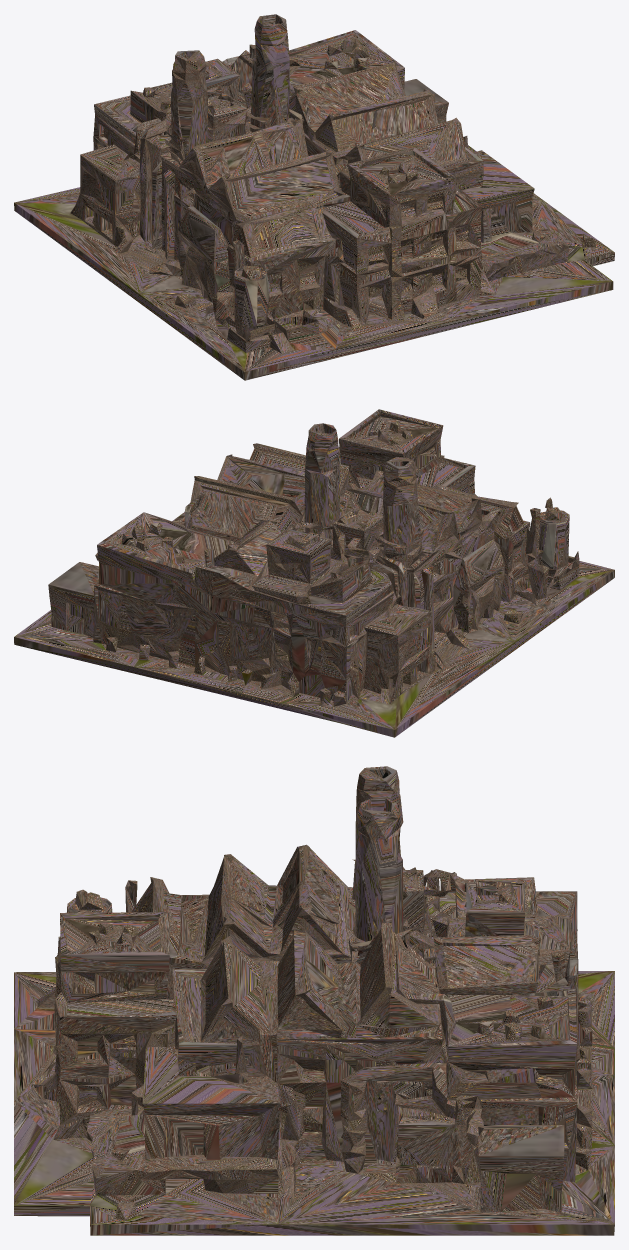
File: factory.glb
3 views of the same model, one above another, from view 1: azimuth 30°, elevation 25°; view 2: azimuth 150°, elevation 25°; view 3: azimuth 270°, elevation 25° (orthographic). The views are drawn at different scales.
Visible parts, largest first — view 1: normalize; view 2: normalize; view 3: normalize.
Boxes of the visible parts, x1,y1,x2,y2 form: normalize: (14, 14, 614, 380); normalize: (14, 409, 614, 737); normalize: (14, 766, 614, 1235).
Bounding box in the file's own units: 0.9999 × 0.5214 × 1.
1 material, 1 textured.
